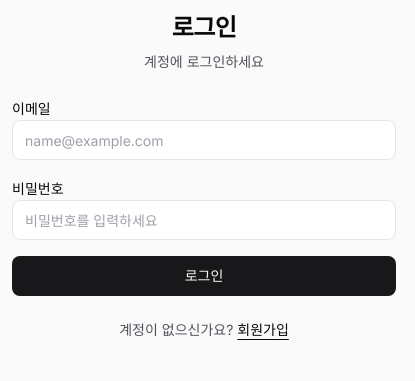
Test: Login › 잘못된 이메일 형식 시 에러가 표시된다
Type "invalid" into the field labelled "이메일" at (204, 140), box [12,120,396,160]
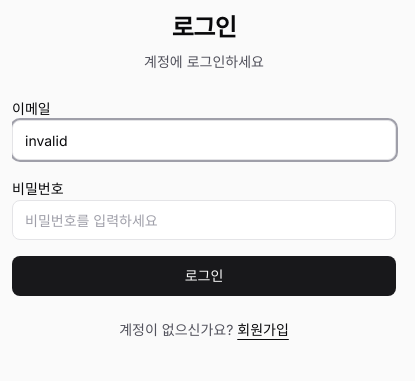
Type "password" into the password field labelled "비밀번호" at (204, 220), box [12,200,396,240]
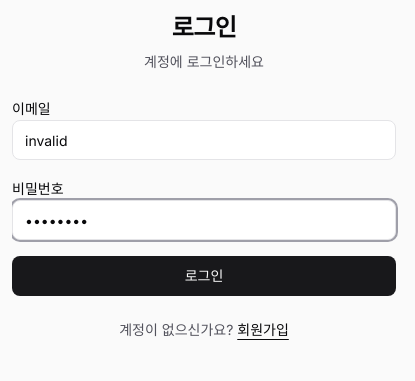
Click the button "로그인" at (204, 276), box [12,256,396,296]
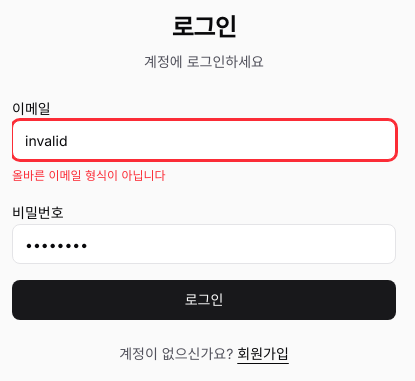
Check: the text "올바른 이메일 형식이 아닙니다" is shown, box [12,168,166,183]
